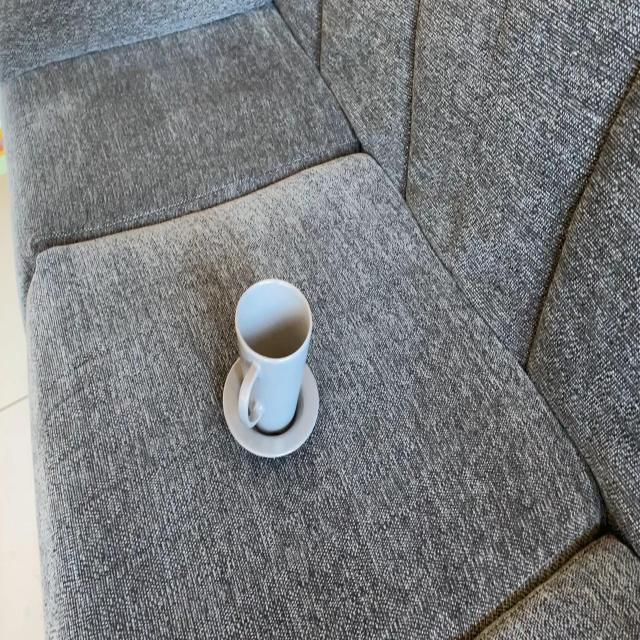cup: (233, 277, 314, 438)
